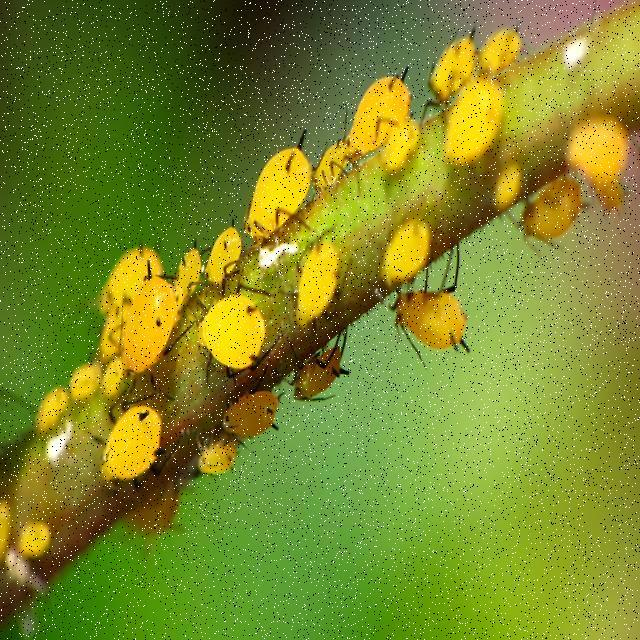Aphids: (171, 260, 273, 397), (246, 135, 339, 274), (97, 257, 196, 375), (279, 237, 346, 361)
